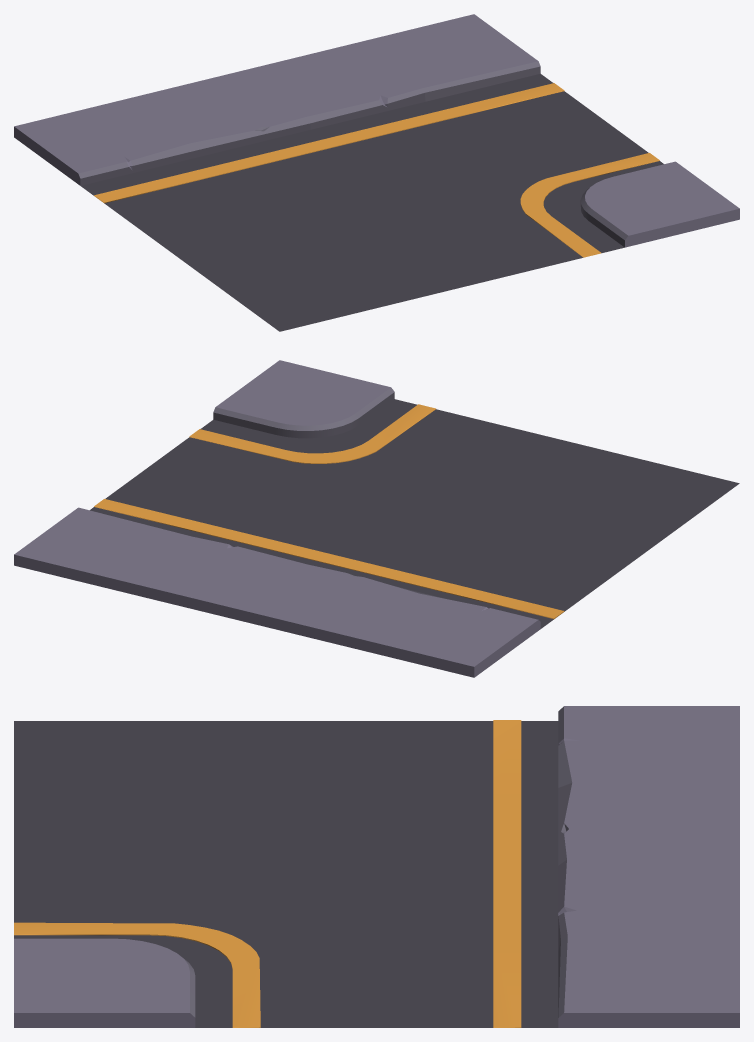
The model's file is street_donmeli_kaldirim_right.fbx.
3 views of the same model, one above another, from view 1: azimuth 30°, elevation 25°; view 2: azimuth 150°, elevation 25°; view 3: azimuth 270°, elevation 25° (orthographic). The views are drawn at different scales.
Parts seen in each view (by area): view 1: yol.012; view 2: yol.012; view 3: yol.012.
Boxes of the visible parts, box(x1,y1,x2,y2) form: yol.012: box(14, 14, 739, 331); yol.012: box(14, 360, 739, 677); yol.012: box(14, 706, 739, 1027).
Size of the model in its own units: 779 by 17.75 by 779.
3 materials, 1 textured.
